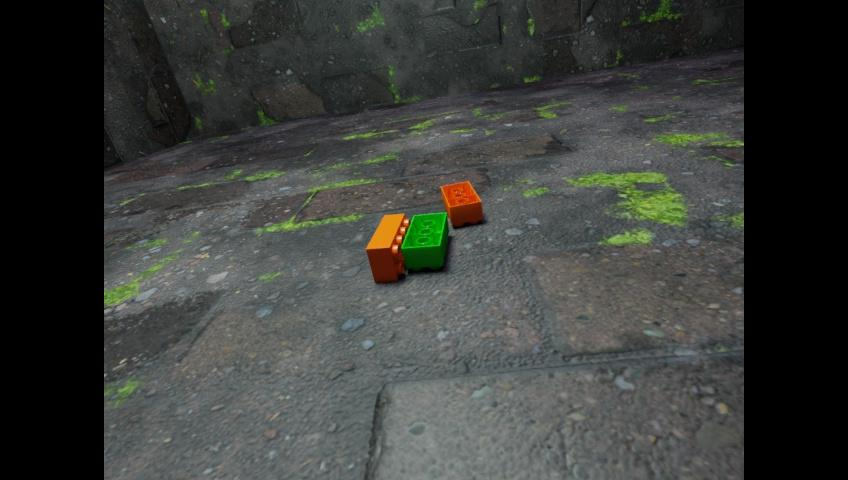4x2_green: (401, 212, 448, 270)
4x2_orange: (366, 213, 410, 282), (441, 181, 482, 226)
